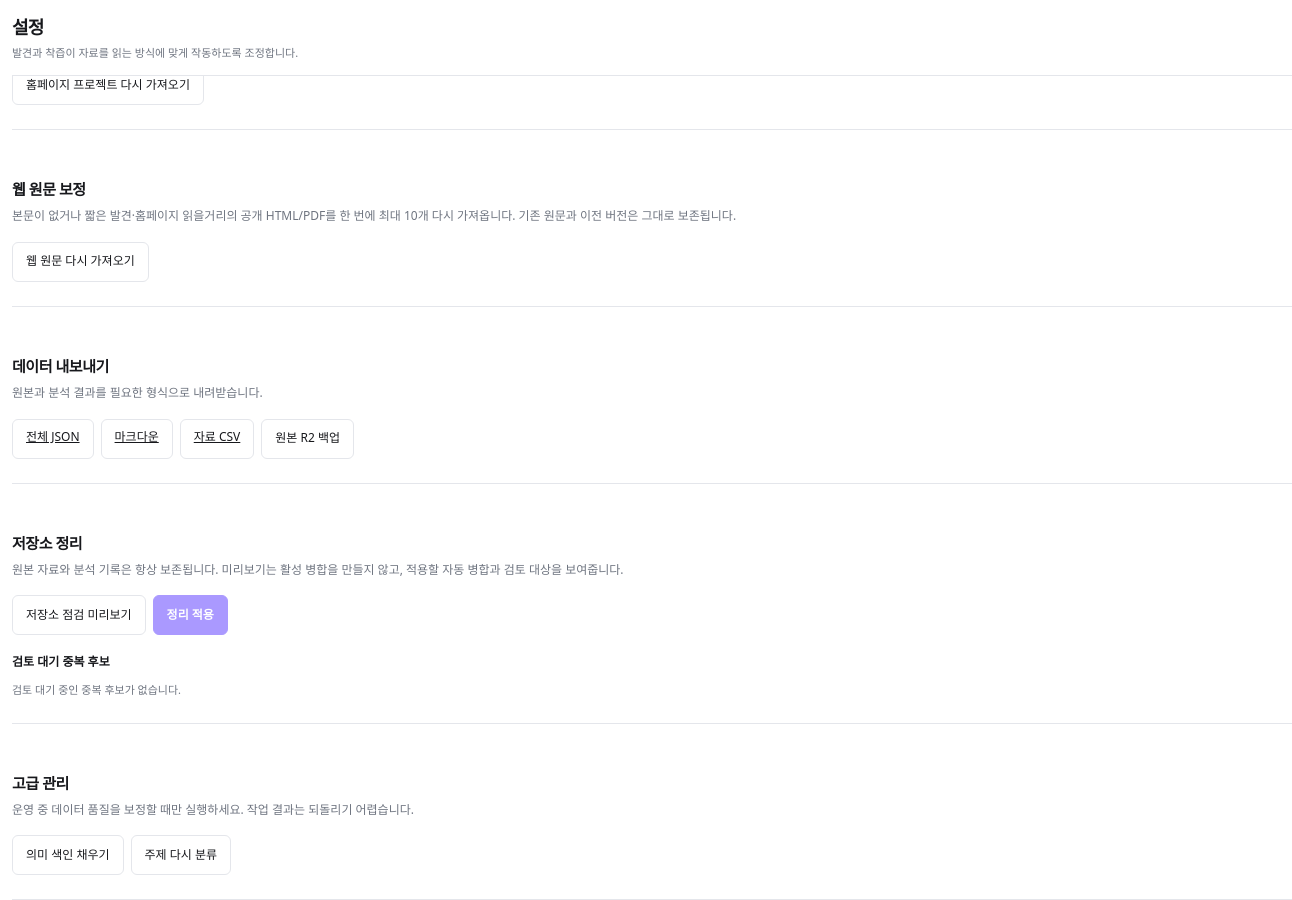
SettingsView repository maintenance › continues apply batches and waits for the terminal apply batch before showing completion
The width and height of the screenshot is (1292, 900).
(page scrolled)
Click the button "저장소 점검 미리보기".
click(79, 615)  # box [12,595,146,635]
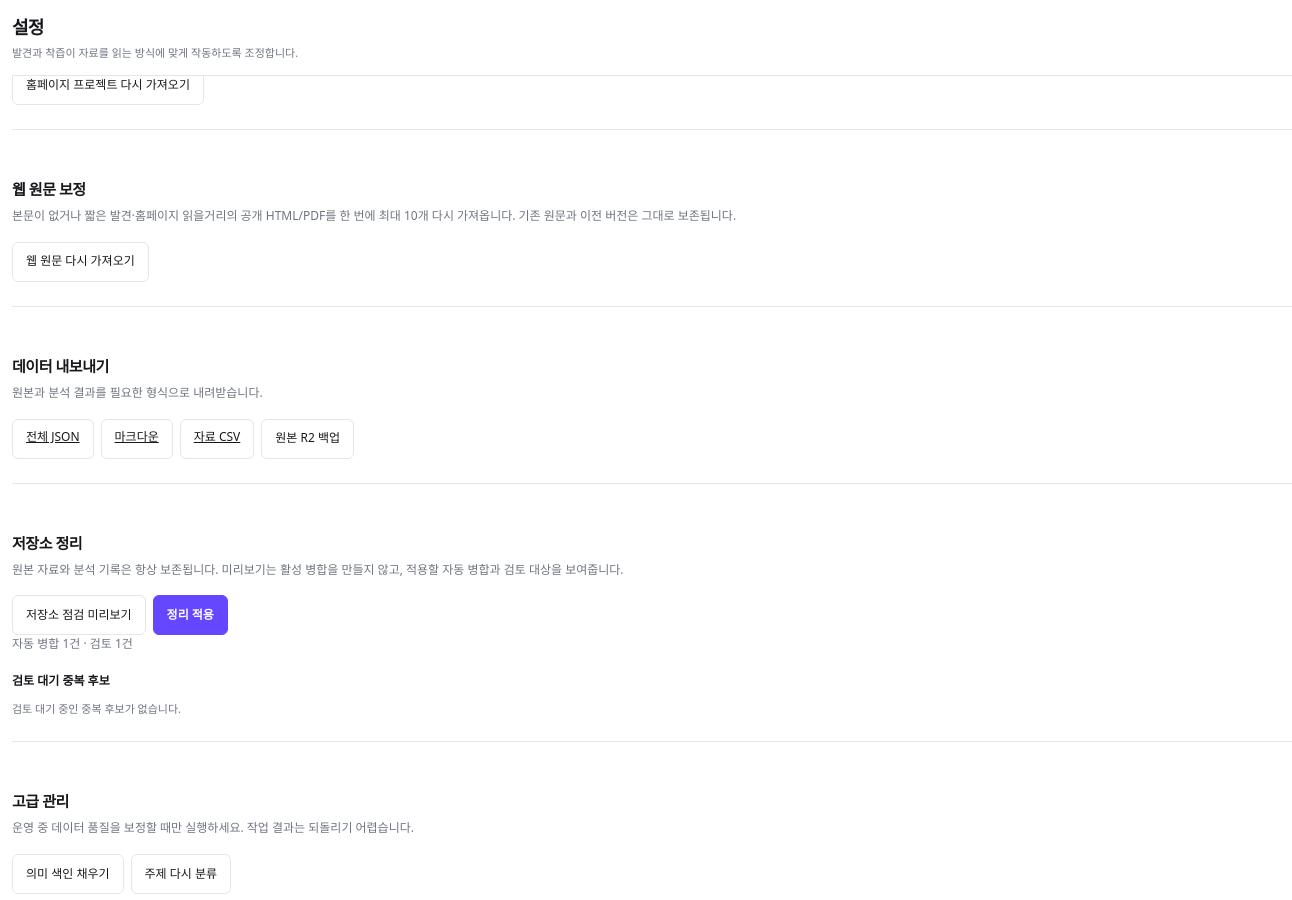
expect the text "자동 병합 1건 · 검토 1건" is shown: met, box [12,635,133,652]
Click the button "정리 적용".
click(190, 615)  # box [153,595,228,635]
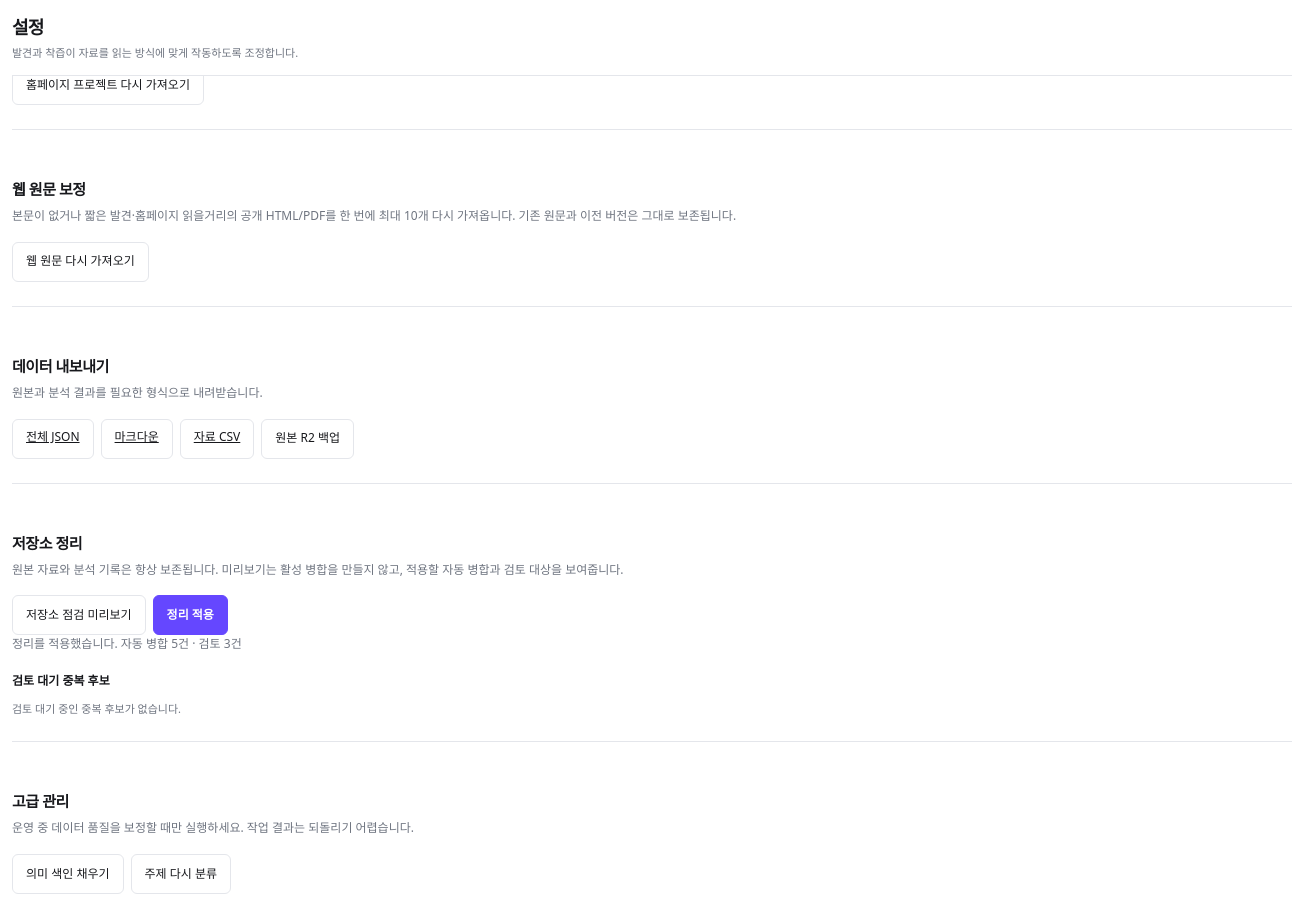
expect the text "정리를 적용했습니다. 자동 병합 5건 · 검토 3건" is shown: met, box [12,635,242,652]
